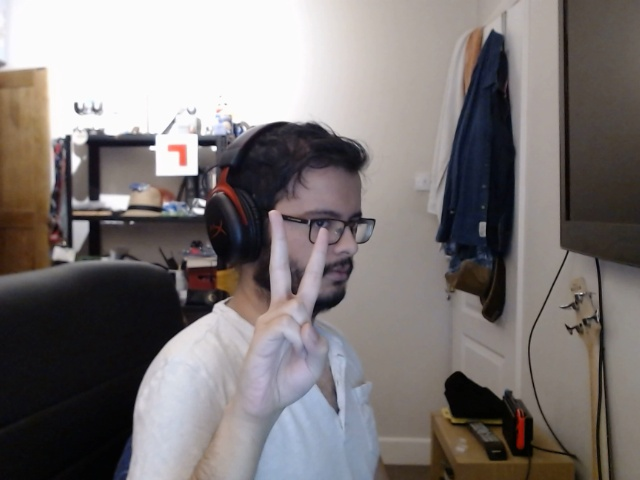Peace: (232, 208, 343, 424)
